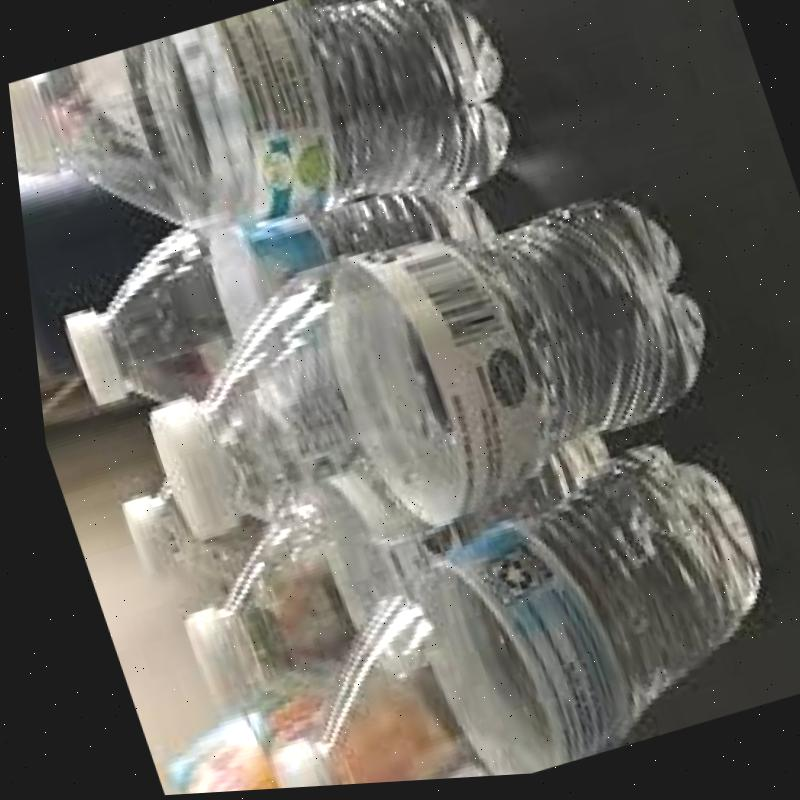botella: (94, 164, 746, 610), (192, 454, 798, 793), (141, 424, 661, 751), (0, 0, 546, 309), (33, 145, 520, 433), (100, 449, 272, 613)
